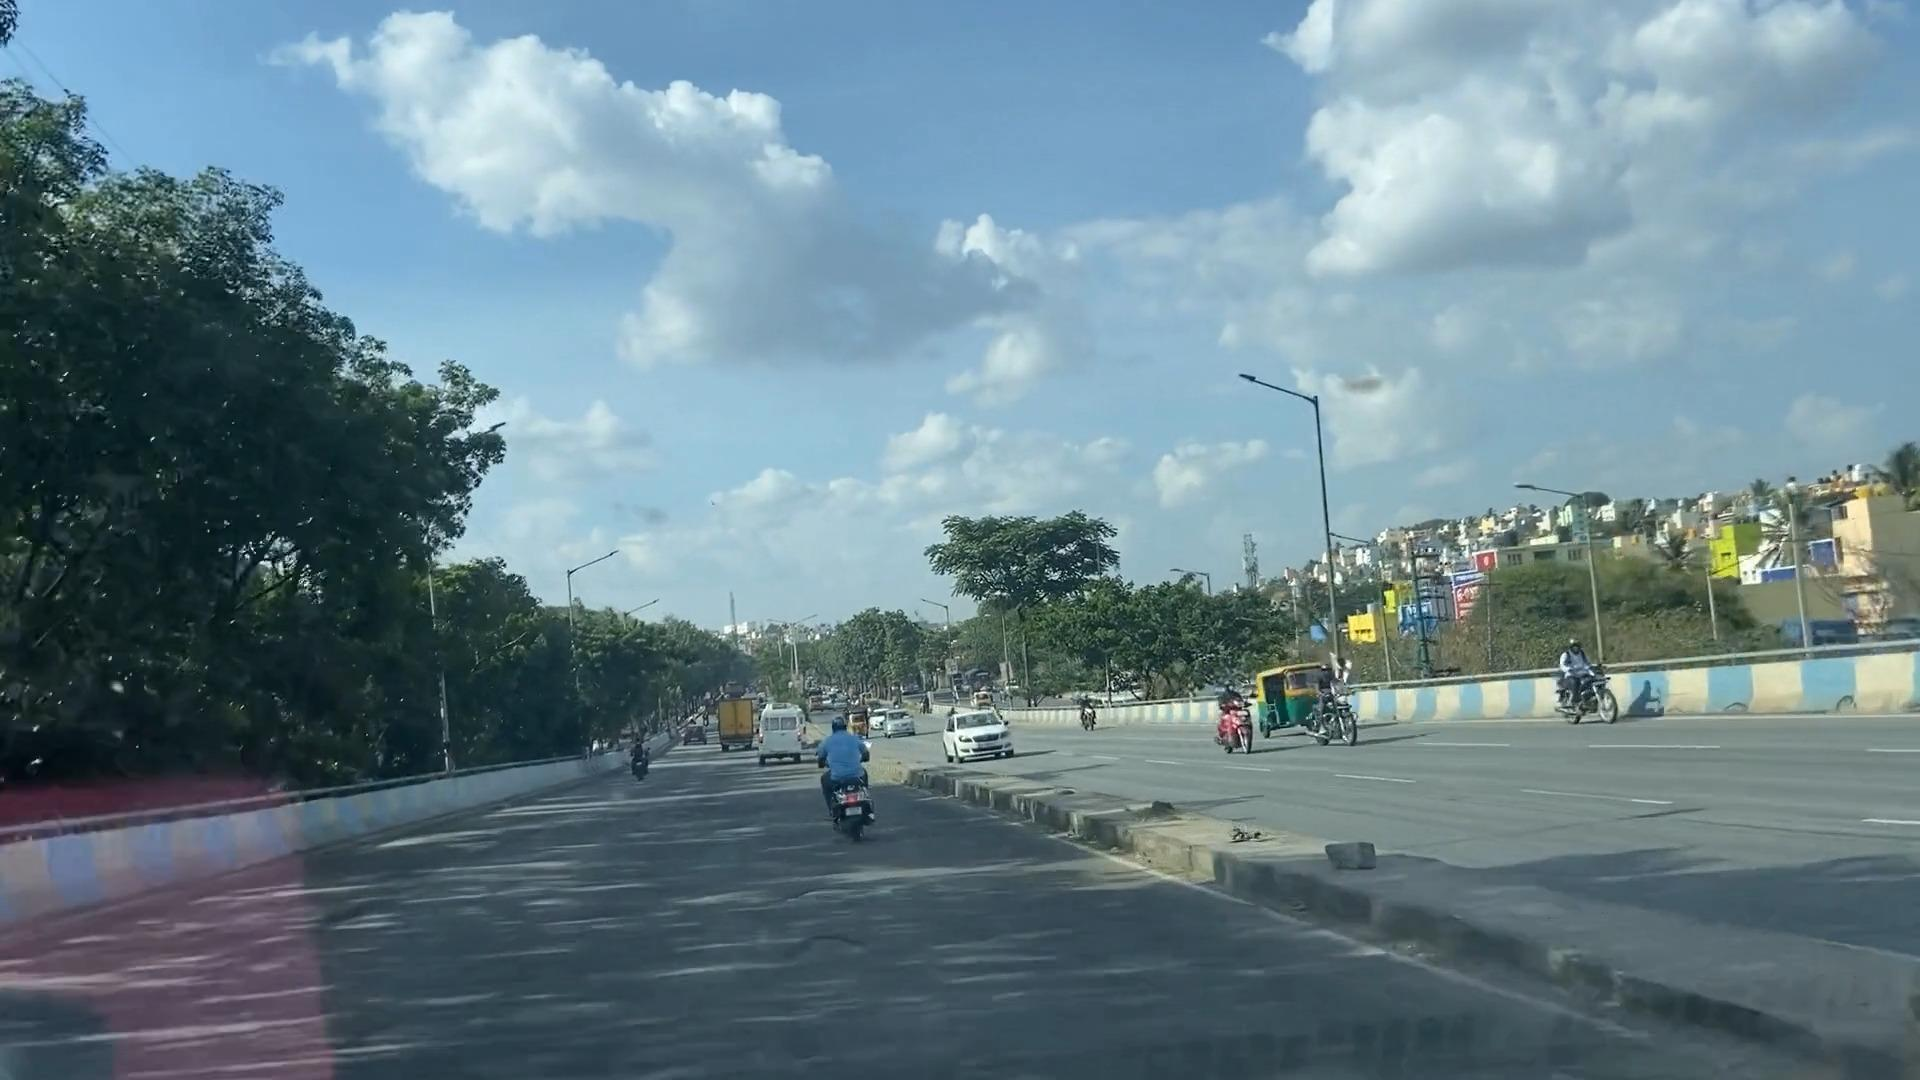LMV: (812, 696, 880, 822)
